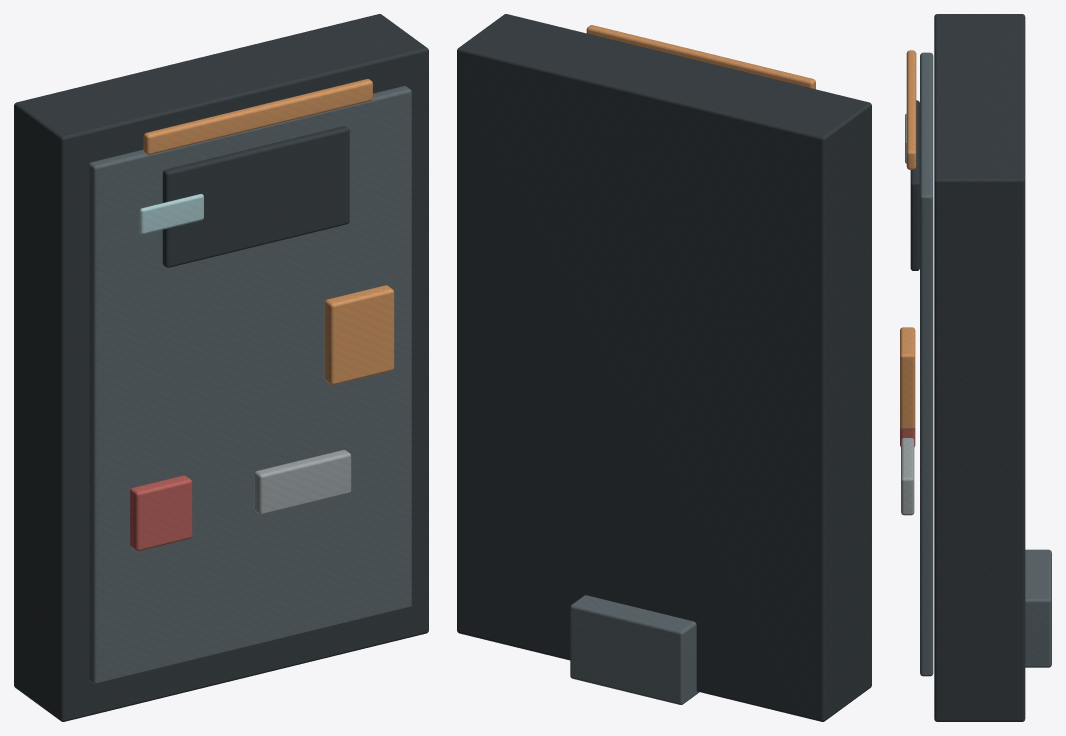
File: IsolationChamberPanel.fbx
3 renders of one model, left to right at view 1: azimuth 30°, elevation 25°; view 2: azimuth 150°, elevation 25°; view 3: azimuth 270°, elevation 25°, orthographic. The views are drawn at different scales.
Parts seen in each view (by area): view 1: IsolationChamberPanel_Mesh; view 2: IsolationChamberPanel_Mesh; view 3: IsolationChamberPanel_Mesh.
Part boxes in pixels (left/top/right/bottom): IsolationChamberPanel_Mesh: left=14, top=14, right=428, bottom=721; IsolationChamberPanel_Mesh: left=457, top=14, right=871, bottom=721; IsolationChamberPanel_Mesh: left=900, top=14, right=1051, bottom=721.
Bounding box in the file's own units: 104 × 159 × 40.
6 materials, 6 textured.
